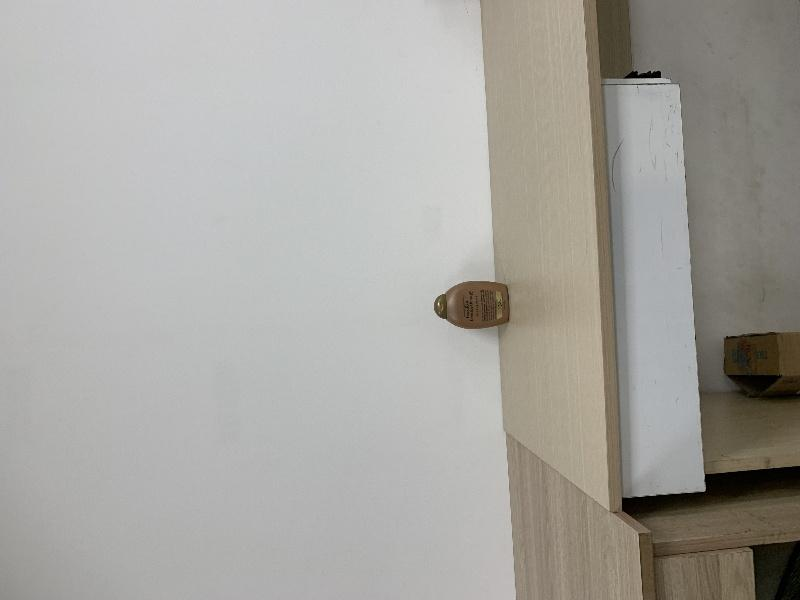BrazilianKeratinTherapy_Shampoo: (434, 281, 509, 329)
